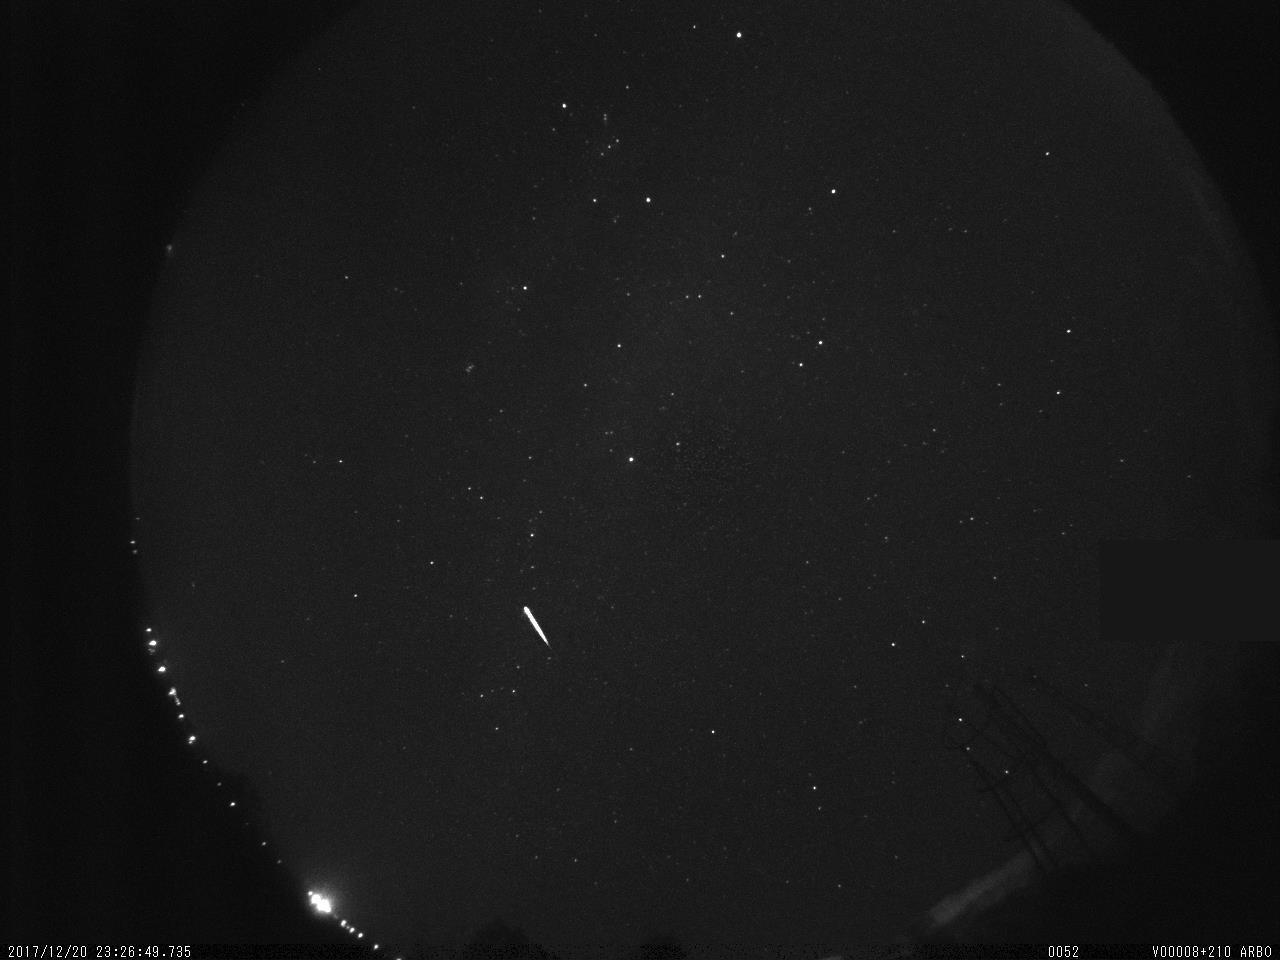meteor: (513, 601, 561, 654)
